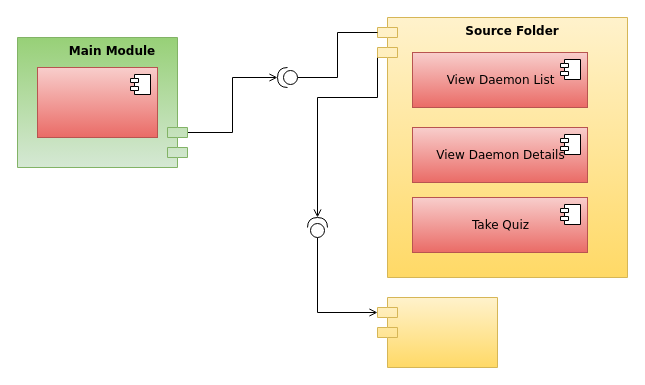
The diagram is 645 pixels wide and 385 high, and some of its shapes have lost their labels. Each missing label, with the centre of its shape:
"Include Folder" belongs at pixel 437 332.
"Main Menu" belongs at pixel 97 102.
